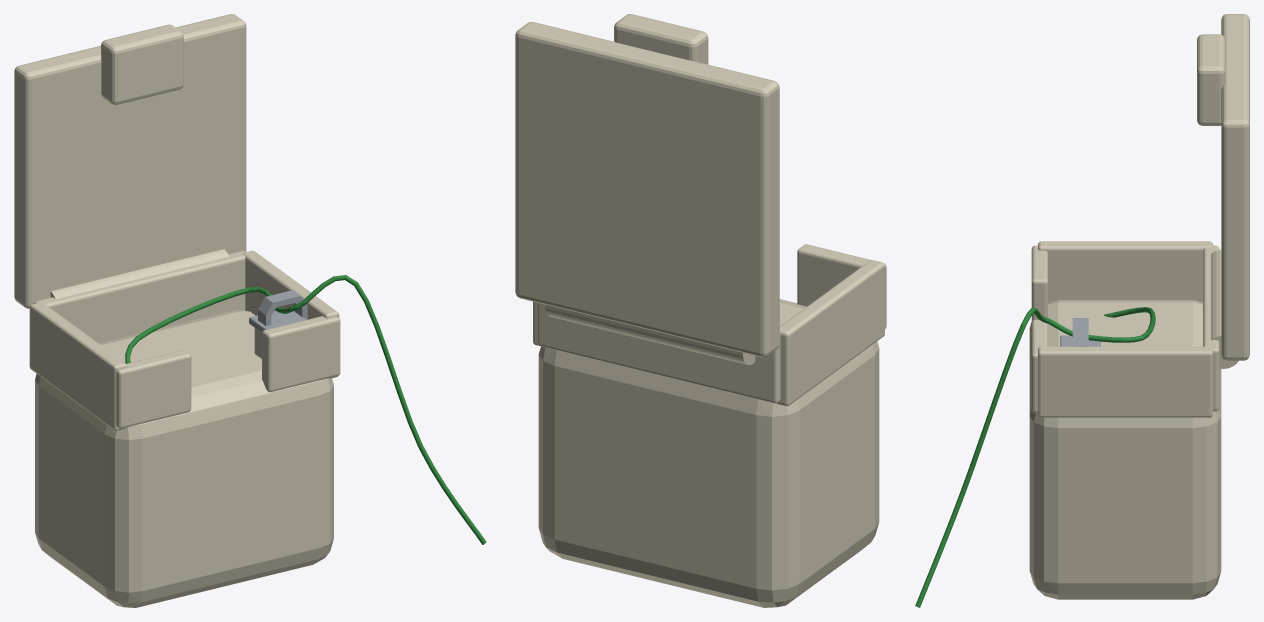
Rendered from full.glb.
3 renders of one model, left to right at view 1: azimuth 30°, elevation 25°; view 2: azimuth 150°, elevation 25°; view 3: azimuth 270°, elevation 25°, orthographic. The views are drawn at different scales.
Visible parts, largest first — view 1: Rounded dispenser body, Upright opened lid, Recess rear wall, Recess sidewall -1, Lid central latch tongue, Notched front rim 1, Notched front rim -1, Single visible floss strand, Recess sidewall 1, Broad hinge barrel, Raised curved cutter tab; view 2: Upright opened lid, Rounded dispenser body, Recess sidewall -1, Recess rear wall, Lid central latch tongue, Notched front rim -1, Broad hinge barrel; view 3: Rounded dispenser body, Recess sidewall 1, Upright opened lid, Recess sidewall -1, Single visible floss strand, Lid central latch tongue, Recess rear wall, Broad hinge barrel, Notched front rim -1, Notched front rim 1, Raised curved cutter tab.
Boxes of the visible parts, <box> form: Rounded dispenser body: <box>35,310,333,607</box>; Upright opened lid: <box>14,14,246,308</box>; Recess rear wall: <box>34,251,245,343</box>; Recess sidewall -1: <box>29,302,127,430</box>; Lid central latch tongue: <box>101,24,183,104</box>; Notched front rim 1: <box>262,316,340,392</box>; Notched front rim -1: <box>116,350,191,428</box>; Single visible floss strand: <box>125,275,486,544</box>; Recess sidewall 1: <box>243,250,339,378</box>; Broad hinge barrel: <box>50,249,228,298</box>; Raised curved cutter tab: <box>258,290,307,326</box>; Upright opened lid: <box>515,22,779,357</box>; Rounded dispenser body: <box>538,299,879,607</box>; Recess sidewall -1: <box>776,260,884,406</box>; Recess rear wall: <box>537,302,780,403</box>; Lid central latch tongue: <box>614,14,708,64</box>; Notched front rim -1: <box>797,244,886,328</box>; Broad hinge barrel: <box>545,304,755,365</box>; Rounded dispenser body: <box>1029,300,1221,599</box>; Recess sidewall 1: <box>1038,346,1212,417</box>; Upright opened lid: <box>1221,14,1249,360</box>; Recess sidewall -1: <box>1038,241,1212,302</box>; Single visible floss strand: <box>915,307,1155,607</box>; Lid central latch tongue: <box>1197,34,1225,125</box>; Recess rear wall: <box>1203,245,1219,411</box>; Broad hinge barrel: <box>1211,249,1238,368</box>; Notched front rim -1: <box>1031,245,1047,322</box>; Notched front rim 1: <box>1031,319,1047,412</box>; Raised curved cutter tab: <box>1072,318,1088,346</box>.
Size of the model in its own units: 0.0901 by 0.136 by 0.0821.
